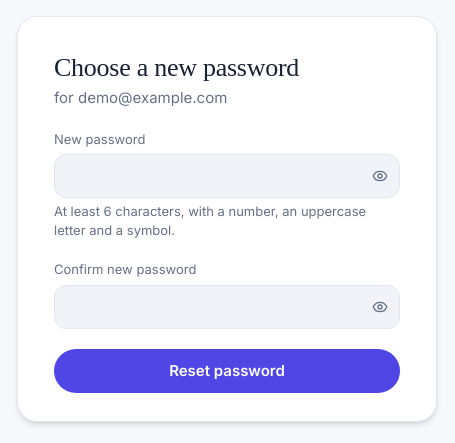
ResetPasswordScreen › shows the success screen once the backend confirms the reset
The width and height of the screenshot is (455, 443).
Type "Str0ng!Pass" into the password field labelled "New password" at (227, 176), box [54,154,400,198]
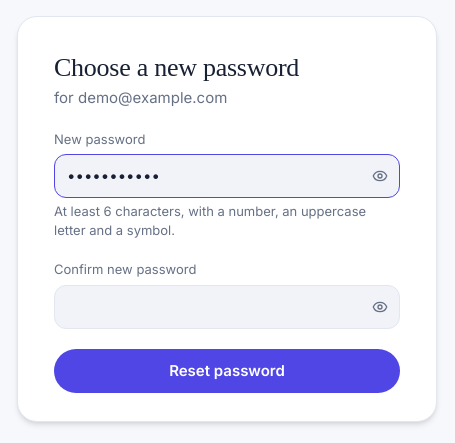
Type "Str0ng!Pass" into the password field labelled "Confirm new password" at (227, 307), box [54,285,400,329]
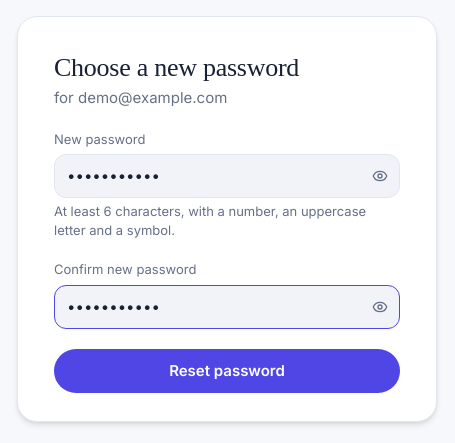
Click the button "Reset password" at (227, 371), box [54,349,400,393]
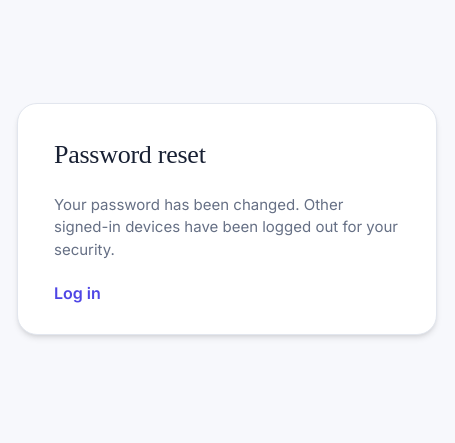
Expected: the heading "Password reset" is shown, [54,140,206,169]
